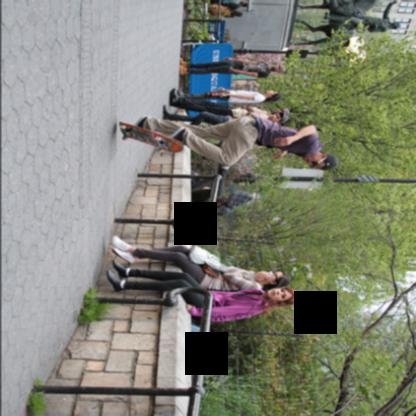handbag: (188, 244, 231, 273), (200, 263, 227, 281)
